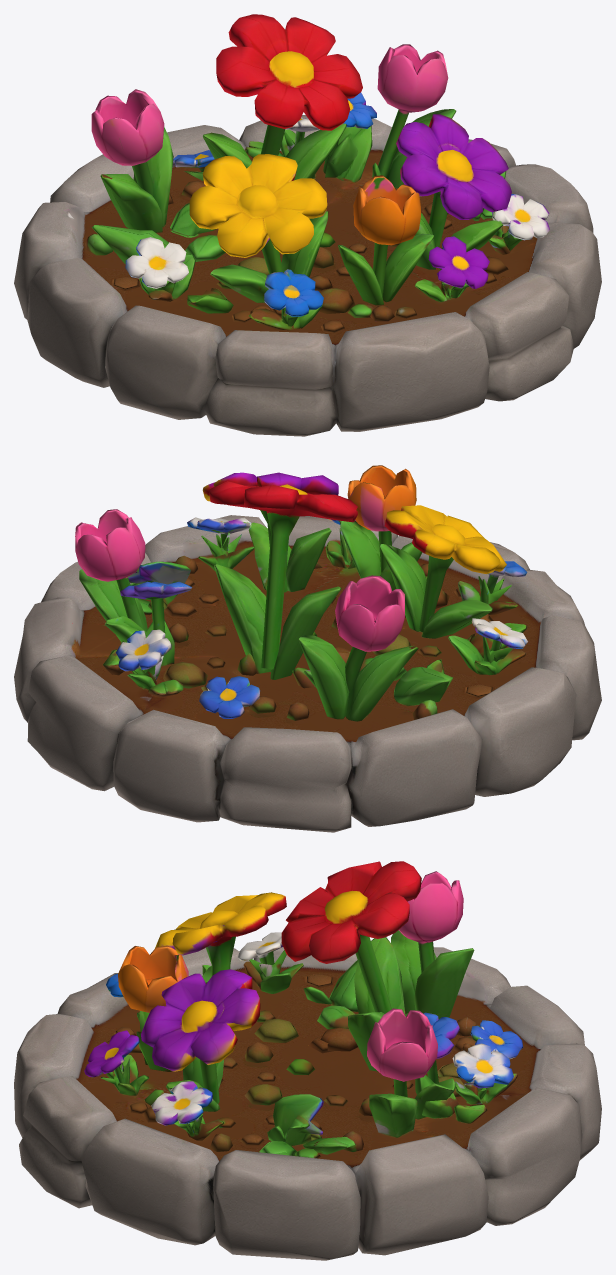
The model's file is FF_Flowers.glb.
3 views of the same model, one above another, from view 1: azimuth 30°, elevation 25°; view 2: azimuth 150°, elevation 25°; view 3: azimuth 270°, elevation 25° (orthographic).
Visible parts, largest first — view 1: FunnyFarmsFlowerBed; view 2: FunnyFarmsFlowerBed; view 3: FunnyFarmsFlowerBed.
Boxes of the visible parts, <box> form: FunnyFarmsFlowerBed: <box>14,14,601,436</box>; FunnyFarmsFlowerBed: <box>14,465,601,832</box>; FunnyFarmsFlowerBed: <box>14,861,601,1260</box>.
Size of the model in its own units: 0.9 by 0.4486 by 0.8963.
Materials: 1 (1 with a texture image).
